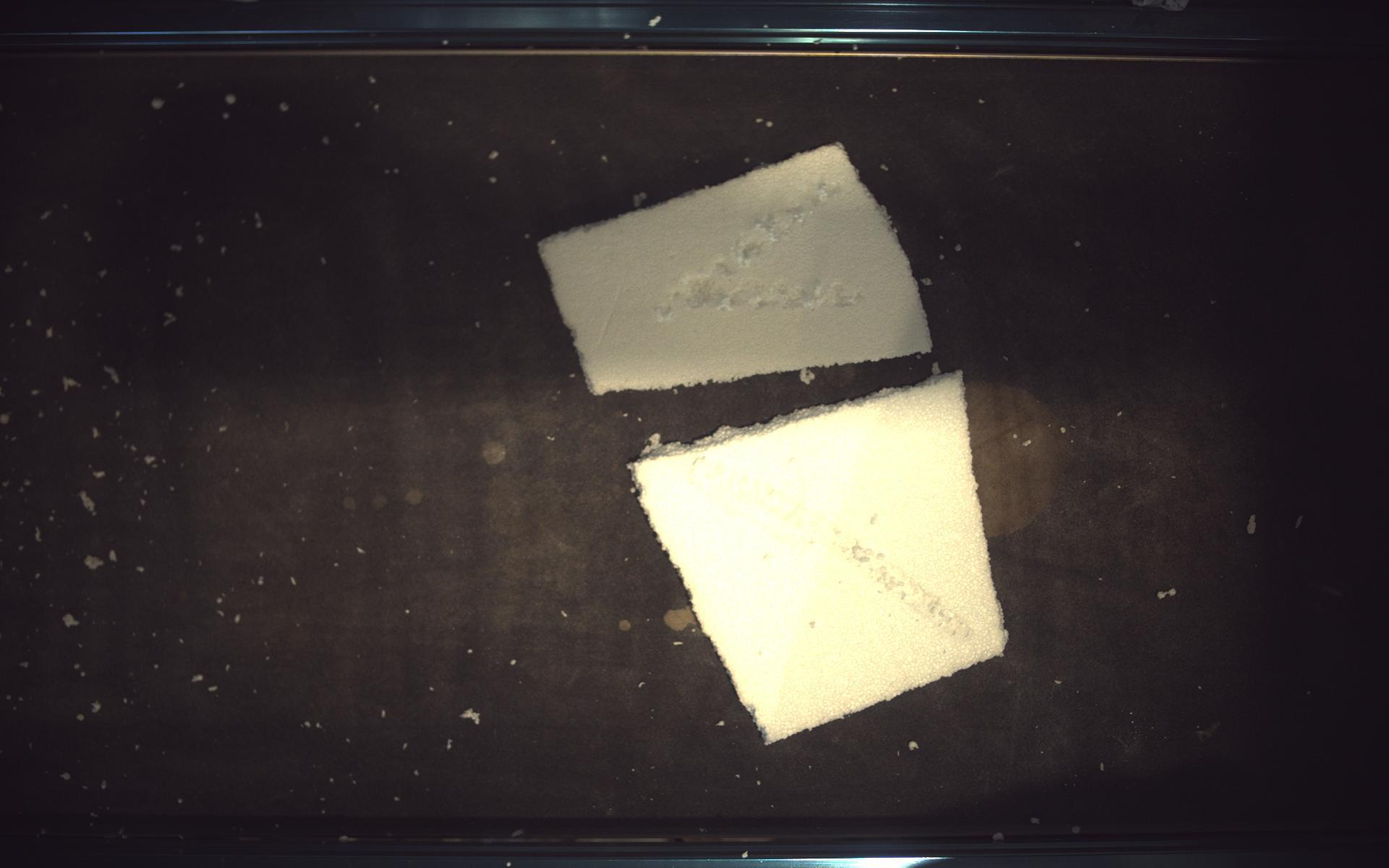foam: (634, 373, 1009, 744), (540, 144, 933, 394)
